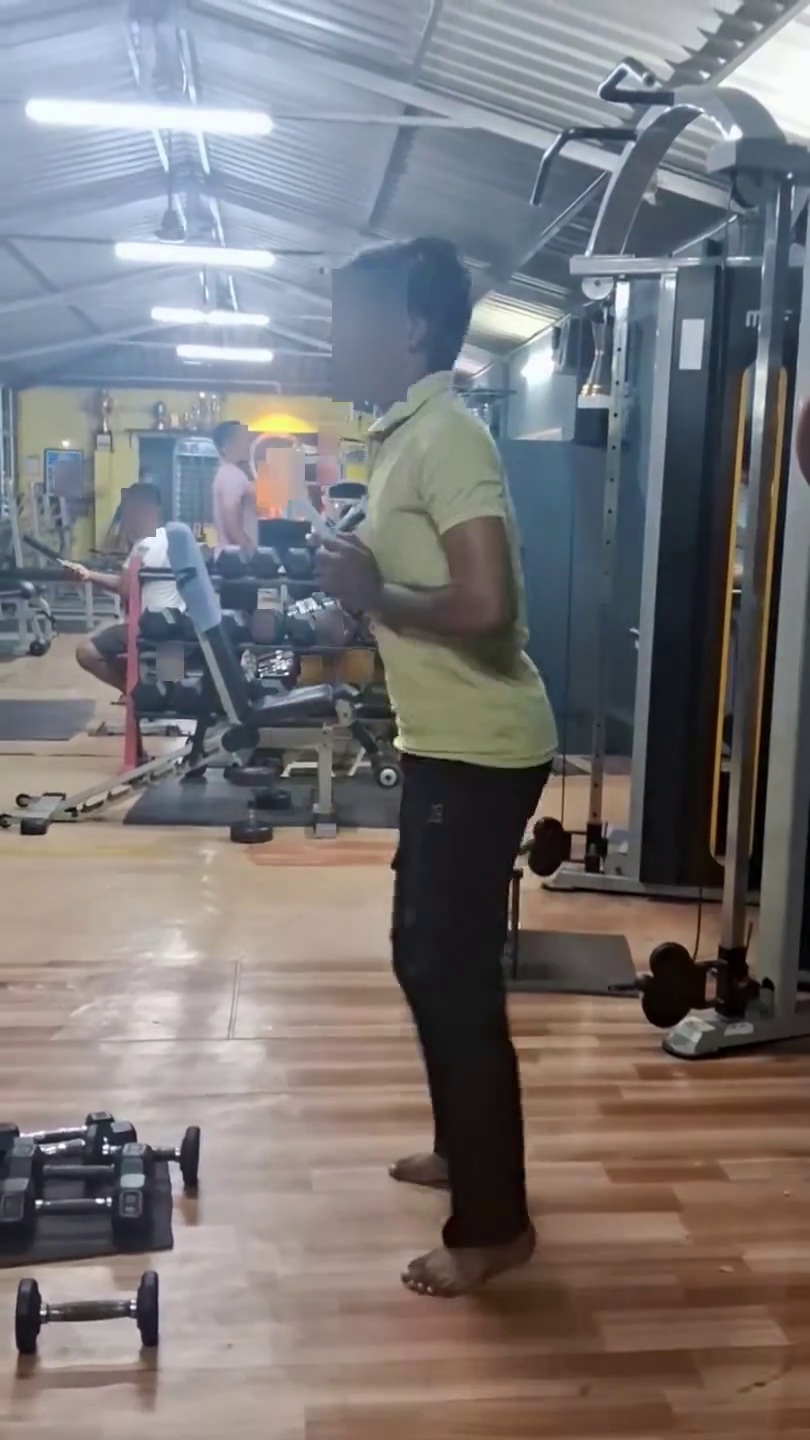squat: (263, 216, 685, 1363)
